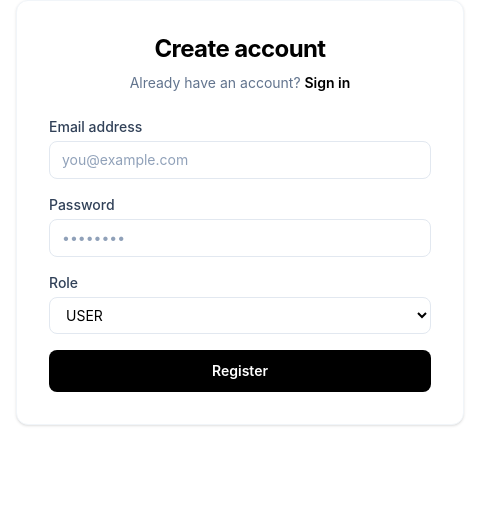
Test case: RegisterPage › displays API error message on registration failure
Step 1. Type "duplicate@example.com" into the field labelled "Email address" → coordinates (240, 160), box [49,141,431,179]
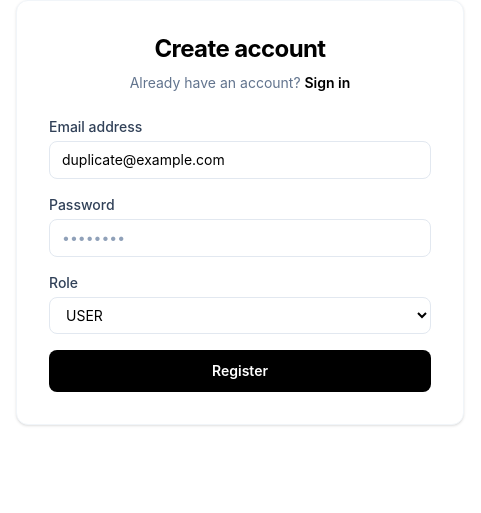
Step 2. Type "Password123!" into the password field labelled "Password" → coordinates (240, 238), box [49,219,431,257]
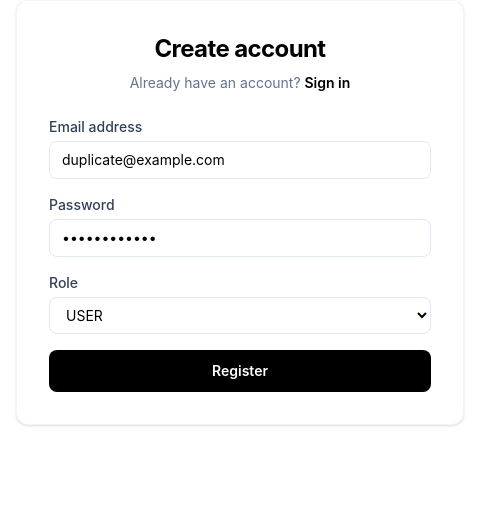
Step 3. Click the button "Register" → coordinates (240, 371), box [49,350,431,392]
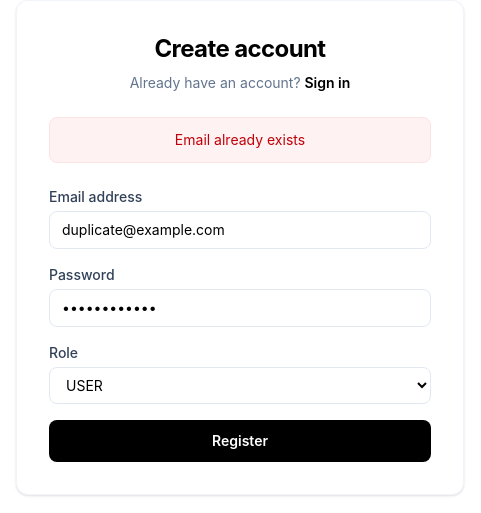
Expected: the text "Email already exists" is shown, [49,117,431,163]
